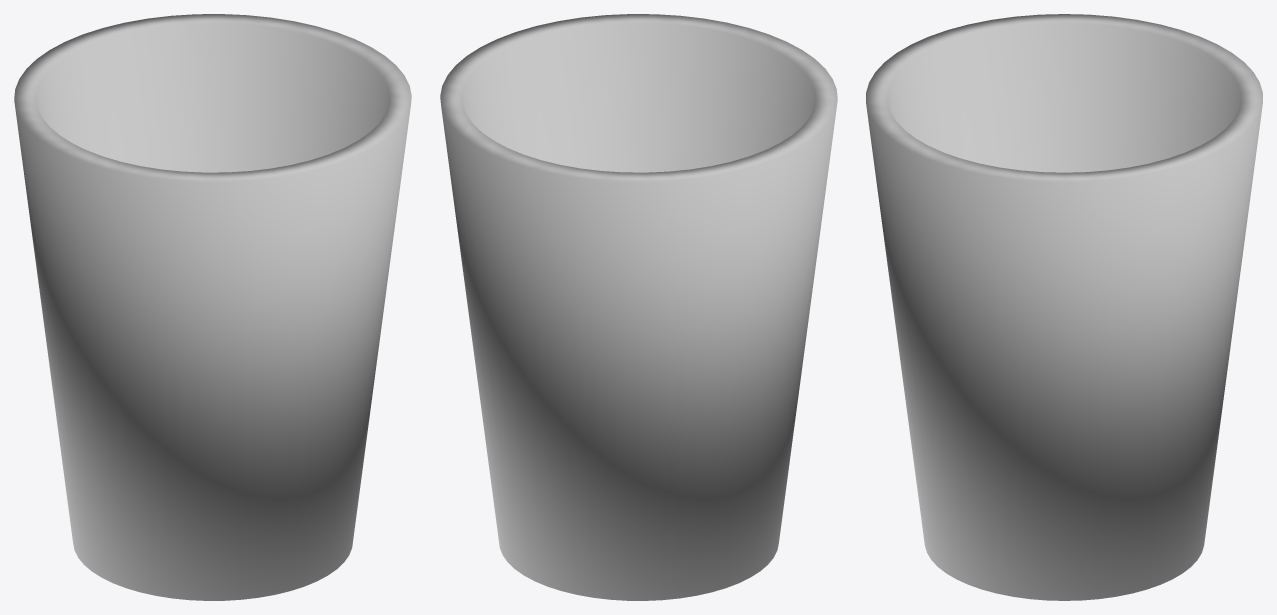
The model's file is DrinkGlass_2.fbx.
3 views of the same model, side by side, from view 1: azimuth 30°, elevation 25°; view 2: azimuth 150°, elevation 25°; view 3: azimuth 270°, elevation 25° (orthographic).
Visible parts, largest first — view 1: DrinkGlass 2; view 2: DrinkGlass 2; view 3: DrinkGlass 2.
Part boxes in pixels (x1,y1,x2,y2): DrinkGlass 2: [14, 14, 411, 600]; DrinkGlass 2: [440, 14, 837, 600]; DrinkGlass 2: [866, 14, 1262, 600].
Bounding box in the file's own units: 0.0788 × 0.0971 × 0.0787.
